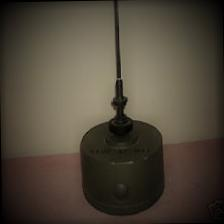M21: (76, 110, 173, 222)
